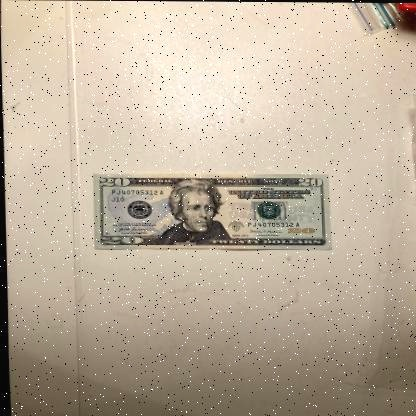twenty-front: (92, 173, 331, 250)
